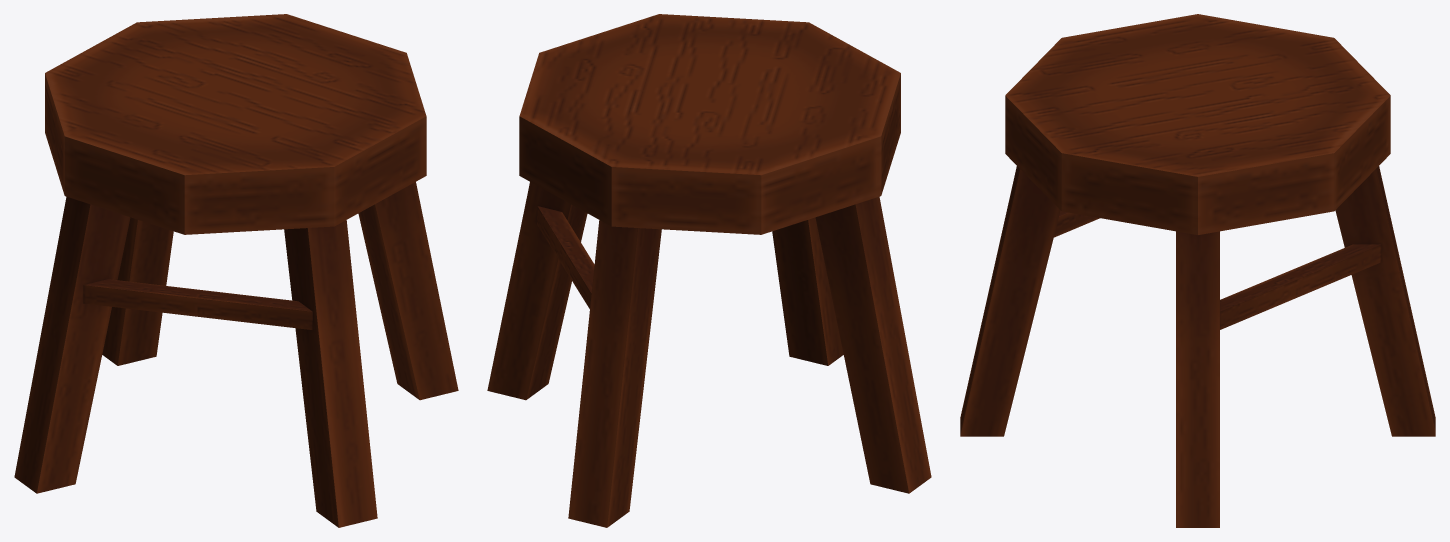
Rendered from Chair6.fbx.
3 renders of one model, left to right at view 1: azimuth 30°, elevation 25°; view 2: azimuth 150°, elevation 25°; view 3: azimuth 270°, elevation 25°, orthographic. The views are drawn at different scales.
Parts seen in each view (by area): view 1: Banco MODULO 04; view 2: Banco MODULO 04; view 3: Banco MODULO 04.
Boxes of the visible parts, x1,y1,x2,y2 form: Banco MODULO 04: (14, 14, 458, 527); Banco MODULO 04: (487, 14, 931, 527); Banco MODULO 04: (960, 14, 1435, 527).
Size of the model in its own units: 163 by 126 by 163.
